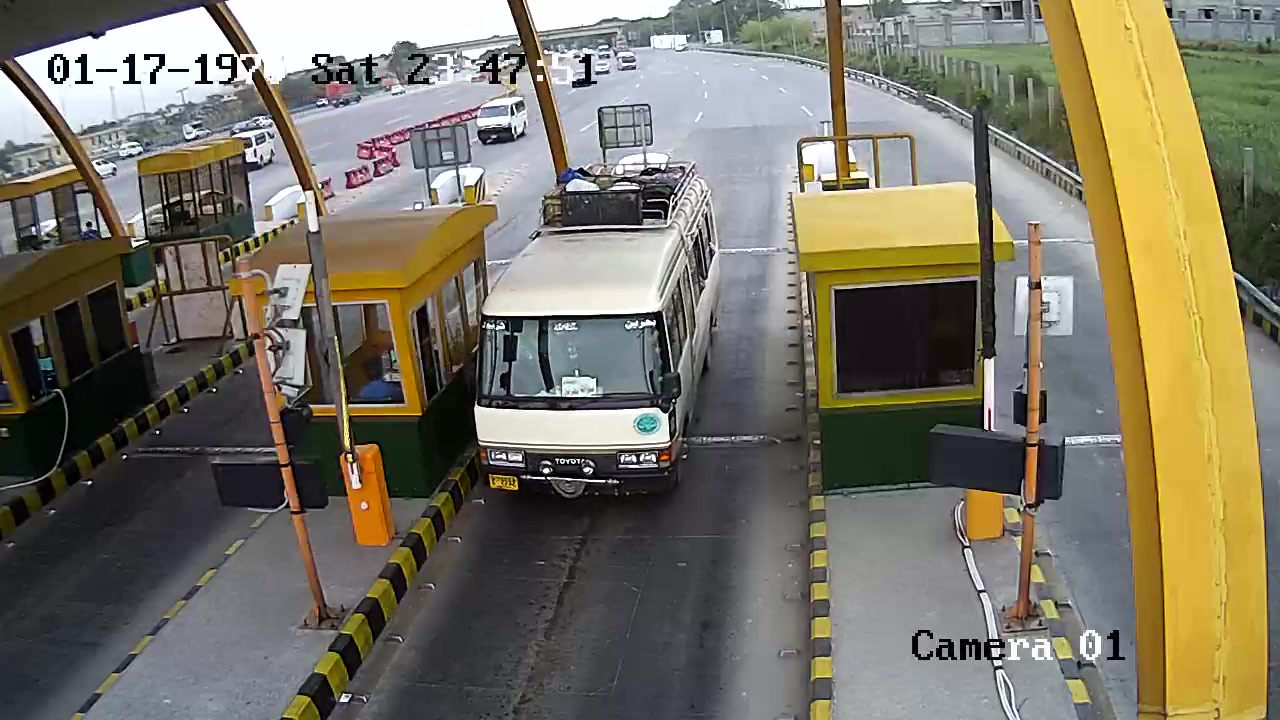F3: (475, 153, 724, 516)
